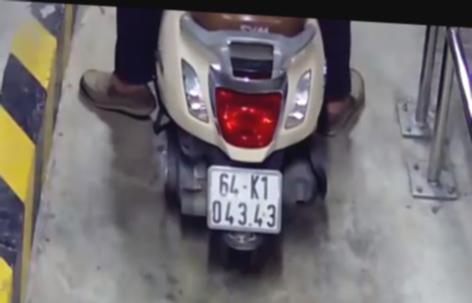License_Plate: (203, 162, 286, 236)
